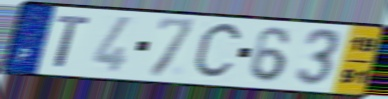3: (294, 26, 343, 89)
4: (89, 14, 133, 76)
6: (247, 25, 293, 86)
7: (151, 15, 200, 80)
C: (190, 20, 246, 83)
T: (52, 13, 93, 69)
